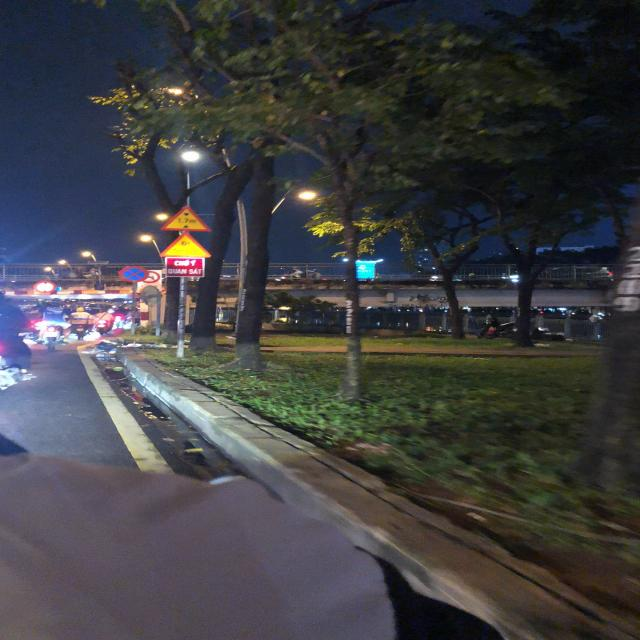Bien bao cam dung xe va do xe: (114, 264, 155, 284)
Bien bao chieu cao tinh khong thuc te: (153, 201, 212, 233)
